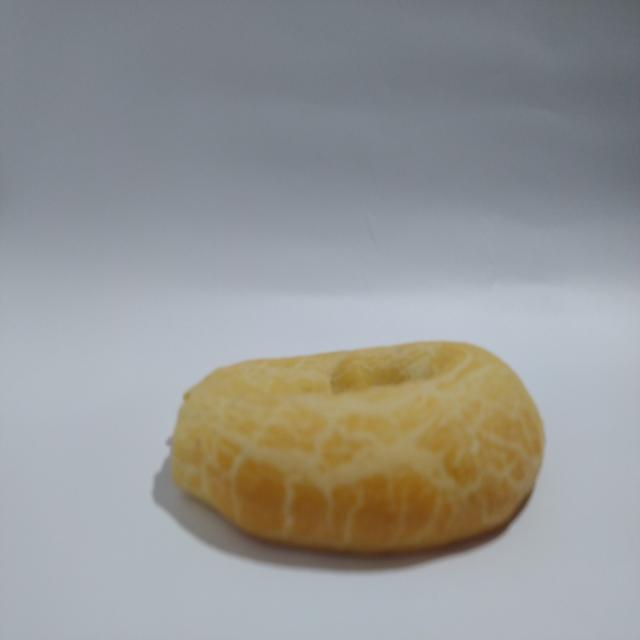Chipa: (157, 328, 552, 572)
